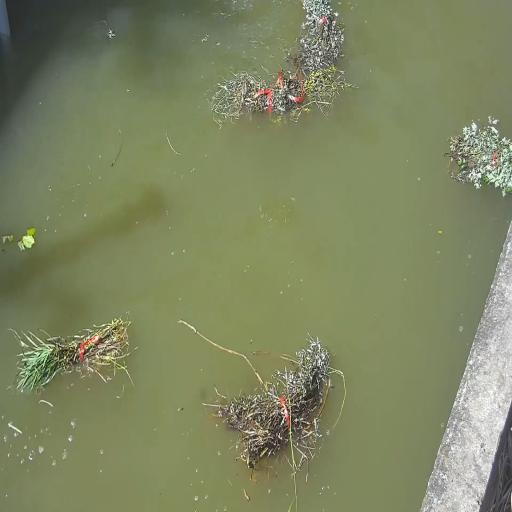twig: (199, 331, 338, 480), (10, 312, 134, 395), (212, 63, 347, 125), (446, 116, 512, 195), (293, 0, 345, 70)
